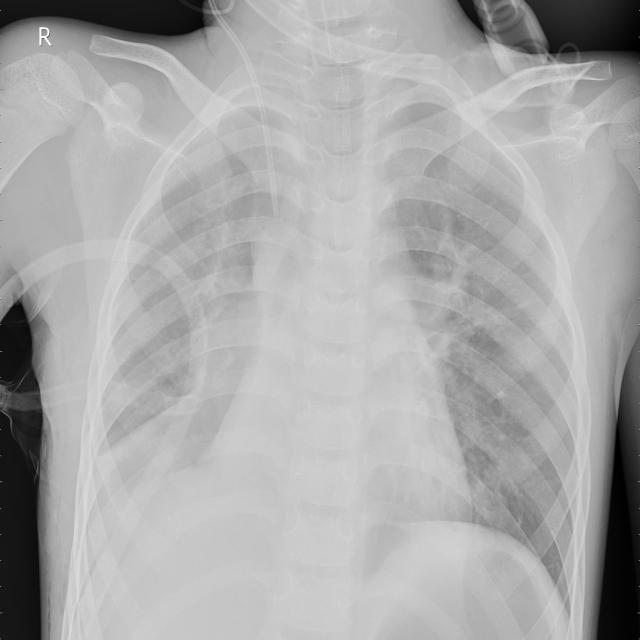high-pneumonia: (88, 55, 275, 547), (389, 75, 546, 541)
